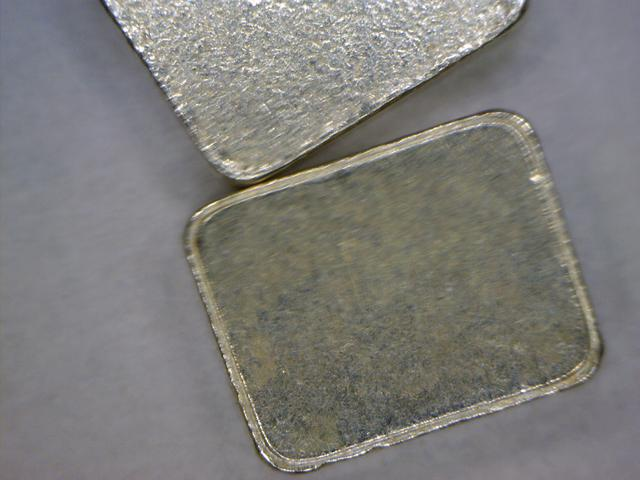nok: (179, 102, 611, 475)
